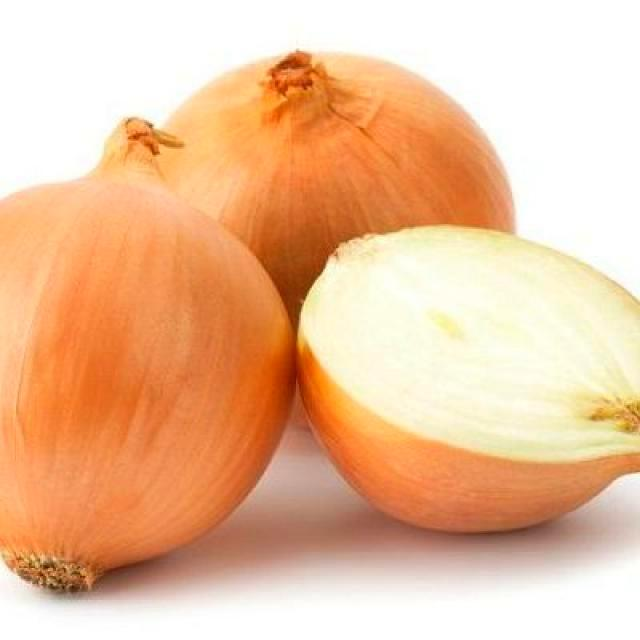onion: (142, 42, 515, 427), (2, 119, 298, 598), (299, 218, 640, 542)
